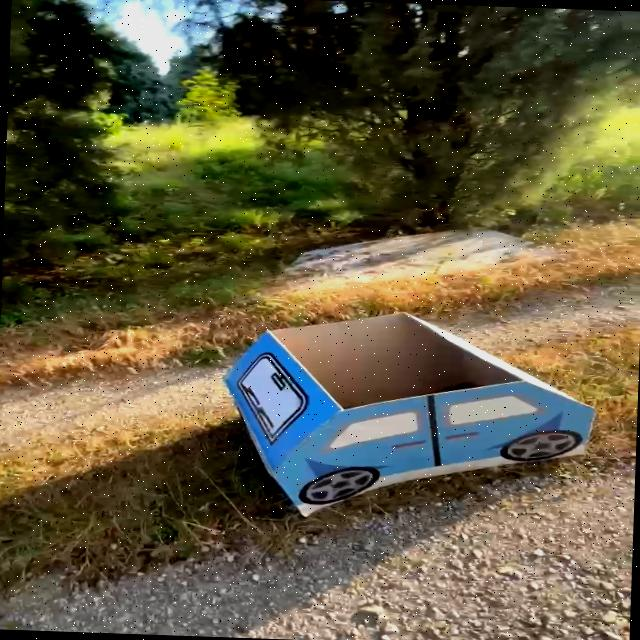blue_car: (185, 273, 625, 541)
